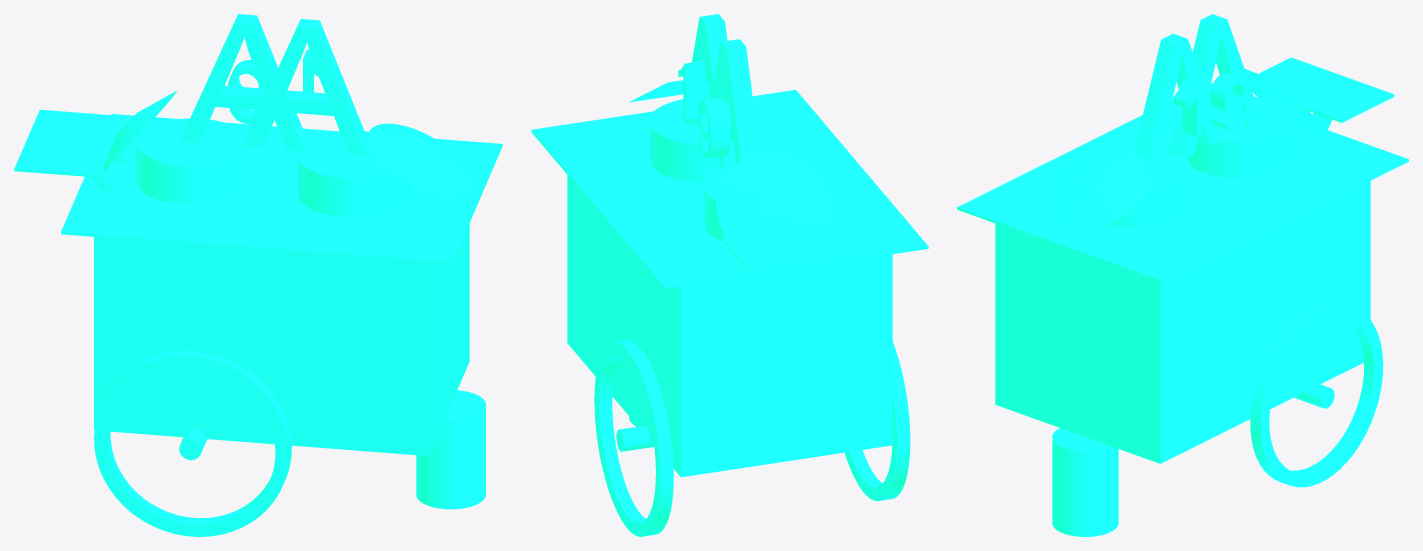
The model's file is DIP193js.glb.
3 views of the same model, side by side, from view 1: azimuth 30°, elevation 25°; view 2: azimuth 150°, elevation 25°; view 3: azimuth 270°, elevation 25° (orthographic). The views are drawn at different scales.
Visible parts, largest first — view 1: Object_14; view 2: Object_14; view 3: Object_14.
Boxes of the visible parts, x1=… form: Object_14: x1=14, y1=14, x2=502, y2=536; Object_14: x1=531, y1=14, x2=928, y2=536; Object_14: x1=957, y1=14, x2=1408, y2=536.
Size of the model in its own units: 7.03 by 7.33 by 6.84.
